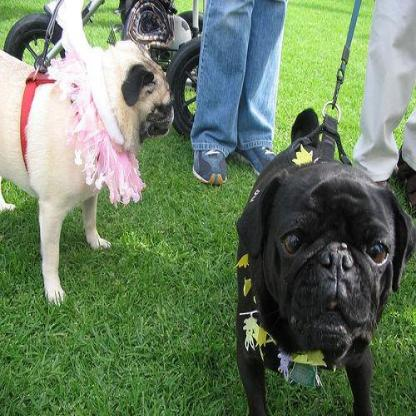pug: (235, 106, 414, 414), (0, 39, 173, 306)
